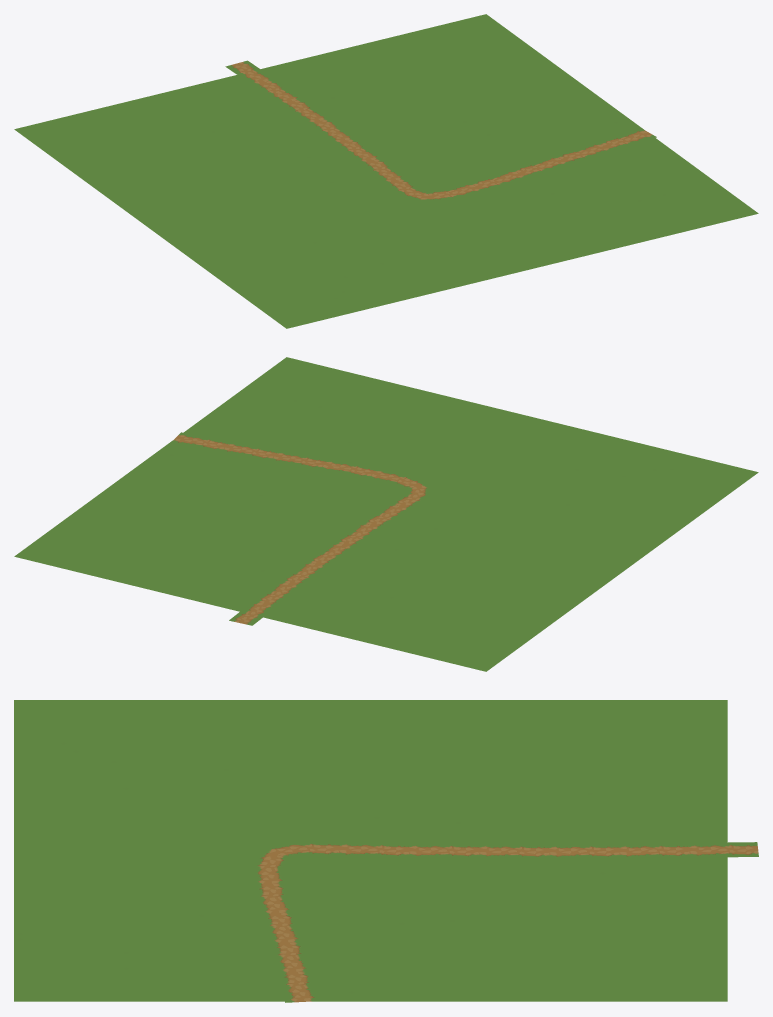
Rendered from path_intro1f.fbx.
3 views of the same model, one above another, from view 1: azimuth 30°, elevation 25°; view 2: azimuth 150°, elevation 25°; view 3: azimuth 270°, elevation 25° (orthographic). The views are drawn at different scales.
Parts seen in each view (by area): view 1: groundPlaneBase, pathBase_lvl1.001; view 2: groundPlaneBase, pathBase_lvl1.001; view 3: groundPlaneBase, pathBase_lvl1.001.
Boxes of the visible parts, <box> form: groundPlaneBase: <box>14,14,758,328</box>; pathBase_lvl1.001: <box>225,60,656,202</box>; groundPlaneBase: <box>14,357,758,671</box>; pathBase_lvl1.001: <box>171,432,432,625</box>; groundPlaneBase: <box>14,700,727,1001</box>; pathBase_lvl1.001: <box>251,841,758,1002</box>.
Size of the model in its own units: 4914 by 0.8715 by 5109.
